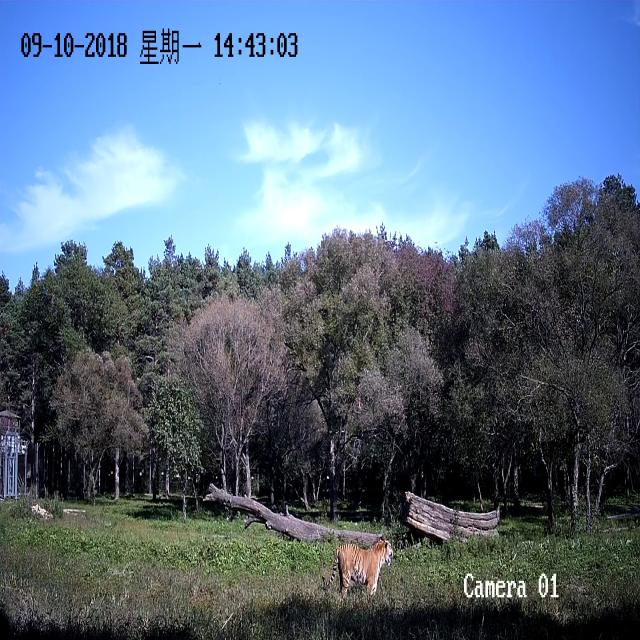Tiger: (325, 525, 402, 600)
